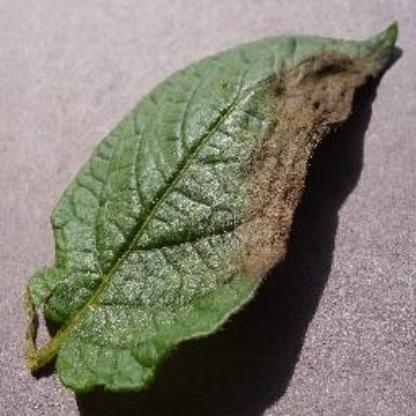Late-Blight: (18, 40, 392, 396)
